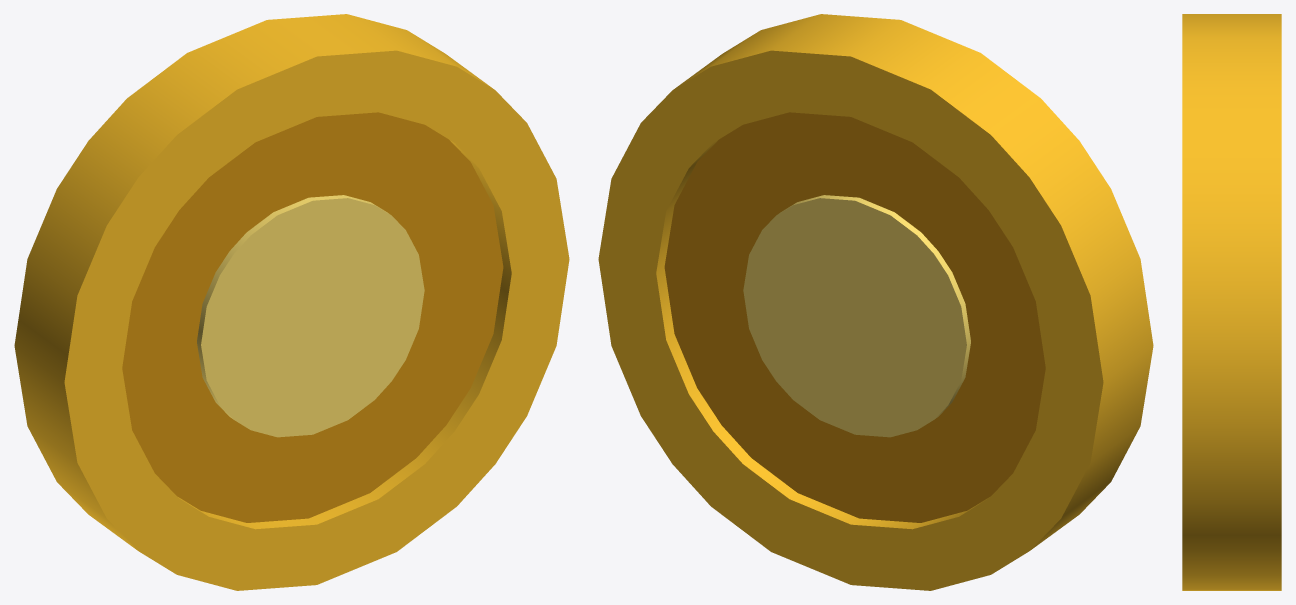
File: gold_coin.obj
The picture shows the model from 3 angles, left to right: view 1: azimuth 30°, elevation 25°; view 2: azimuth 150°, elevation 25°; view 3: azimuth 270°, elevation 25°; orthographic projection.
Parts seen in each view (by area): view 1: Rim, Face, Emblem; view 2: Rim, Face, Emblem; view 3: Rim.
Part boxes in pixels (x1,y1,x2,y2): Rim: (14,14,569,590); Face: (122,112,503,522); Emblem: (197,195,424,437); Rim: (598,14,1153,590); Face: (664,112,1045,522); Emblem: (743,195,970,437); Rim: (1182,14,1281,590).
Size of the model in its own units: 1.4 by 1.4 by 0.24.
